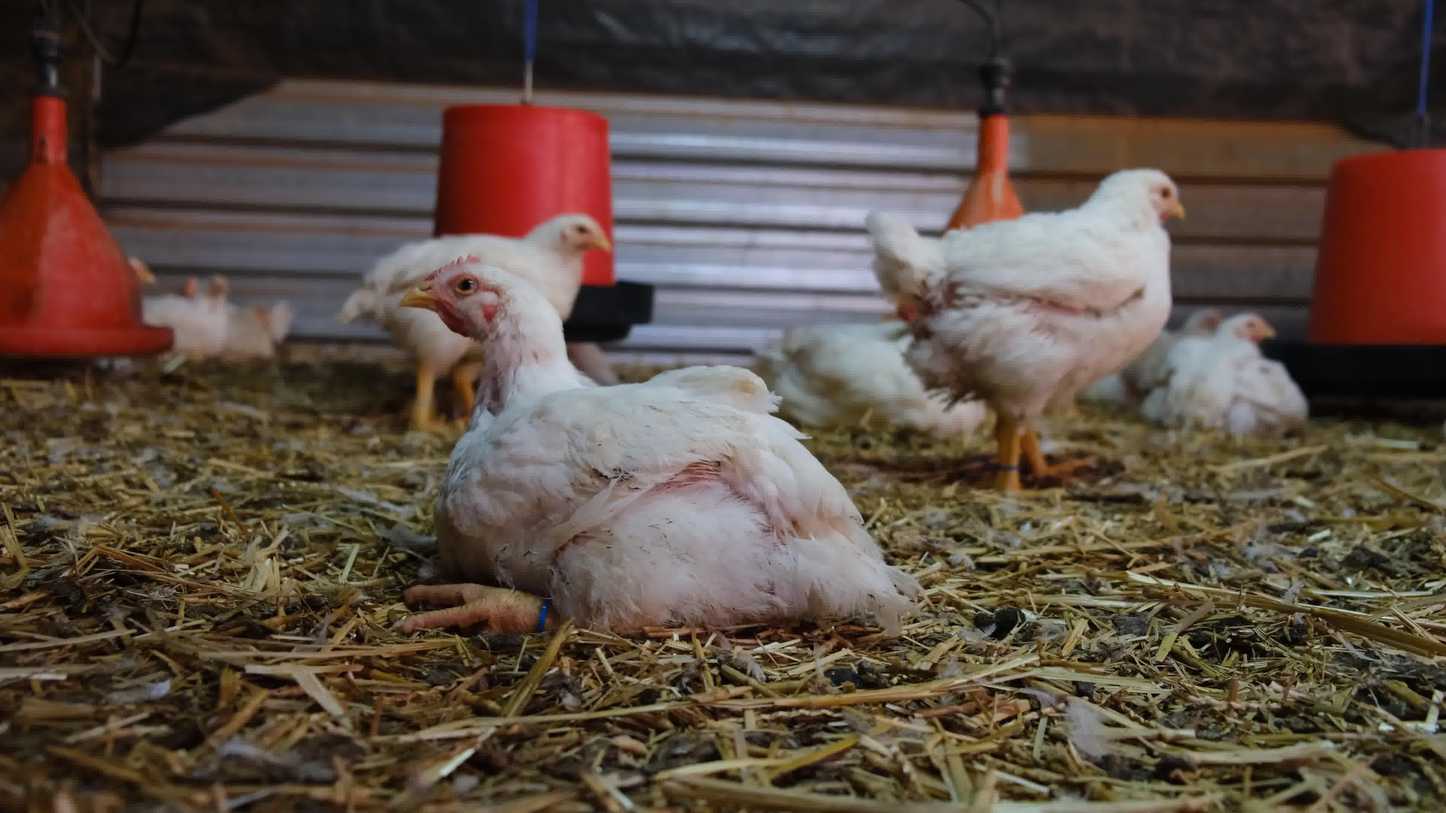AbNormal: (386, 243, 936, 636), (763, 307, 1011, 442), (1173, 312, 1307, 448), (1167, 297, 1243, 420), (232, 294, 314, 384)
Normal: (853, 160, 1203, 438), (333, 196, 614, 405), (147, 267, 252, 378)
